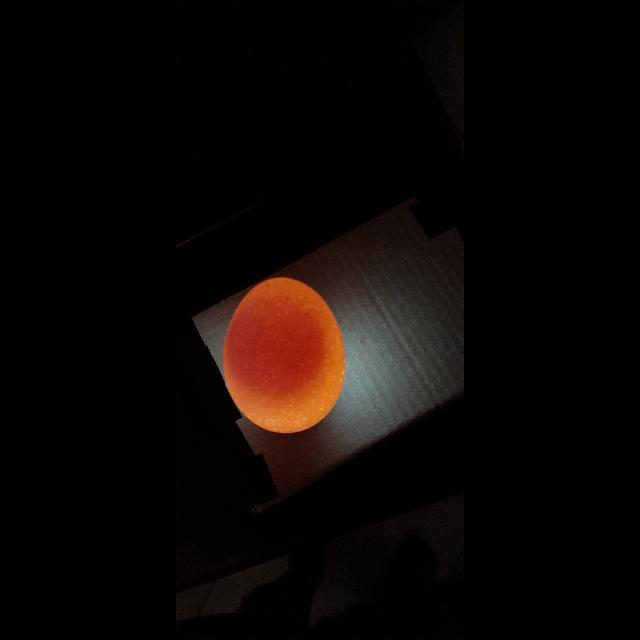Fertile: (227, 274, 346, 440)
